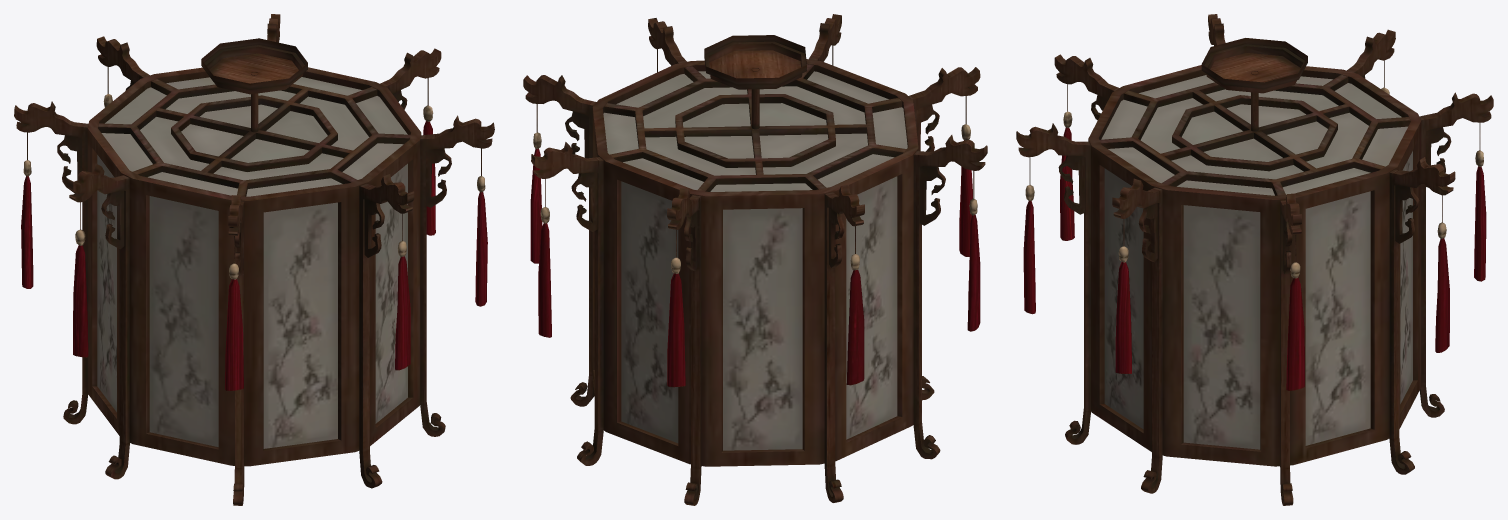
File: chinese_chandelier.glb
The picture shows the model from 3 angles, left to right: view 1: azimuth 30°, elevation 25°; view 2: azimuth 150°, elevation 25°; view 3: azimuth 270°, elevation 25°; orthographic projection.
Visible parts, largest first — view 1: chinese_chandelier; view 2: chinese_chandelier; view 3: chinese_chandelier.
Boxes of the visible parts, left/top/right/bottom form: chinese_chandelier: left=14, top=14, right=494, bottom=505; chinese_chandelier: left=523, top=14, right=987, bottom=505; chinese_chandelier: left=1016, top=14, right=1493, bottom=505.
Bounding box in the file's own units: 0.8776 × 0.7483 × 0.878.
Materials: 1 (1 with a texture image).
